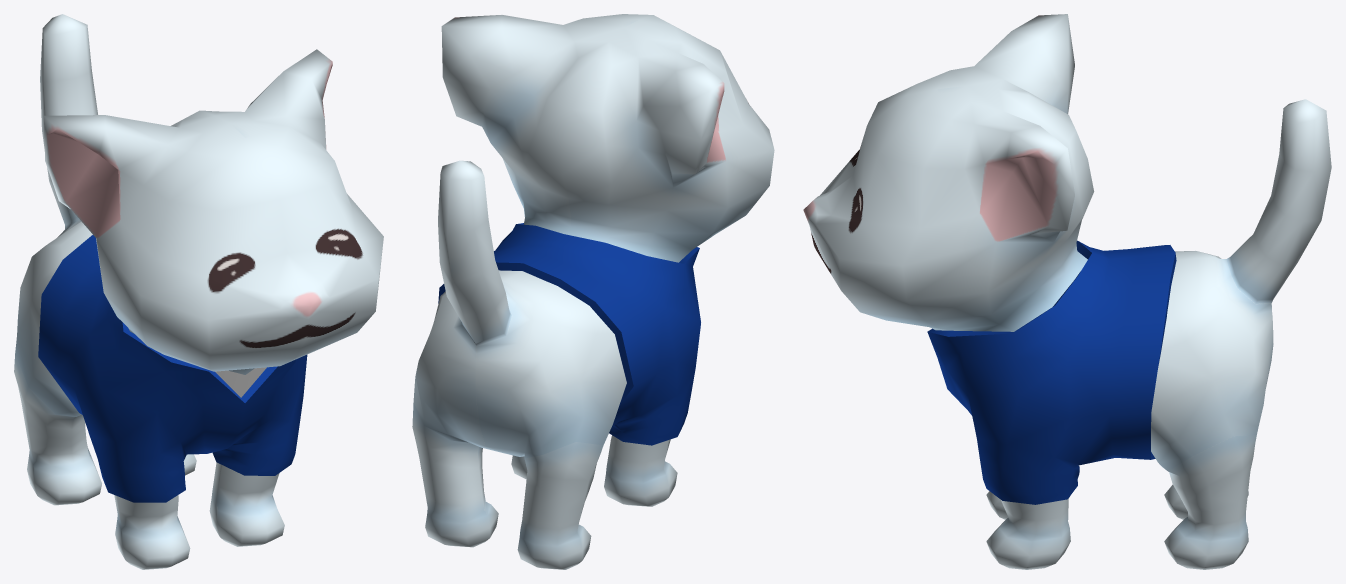
The model's file is Nurse Cat05.fbx.
The picture shows the model from 3 angles, left to right: view 1: azimuth 30°, elevation 25°; view 2: azimuth 150°, elevation 25°; view 3: azimuth 270°, elevation 25°; orthographic projection. The views are drawn at different scales.
Visible parts, largest first — view 1: Cat_Base004, Nurse_Cat_Scrubs; view 2: Cat_Base004, Nurse_Cat_Scrubs; view 3: Cat_Base004, Nurse_Cat_Scrubs.
Part boxes in pixels (box(x1,y1,x2,y2)): Cat_Base004: box(14, 14, 383, 569); Nurse_Cat_Scrubs: box(38, 235, 307, 502); Cat_Base004: box(412, 14, 774, 569); Nurse_Cat_Scrubs: box(438, 223, 700, 445); Cat_Base004: box(803, 14, 1331, 569); Nurse_Cat_Scrubs: box(927, 240, 1176, 504).
Size of the model in its own units: 1.75 by 2.83 by 2.68.
3 materials, 1 textured.
